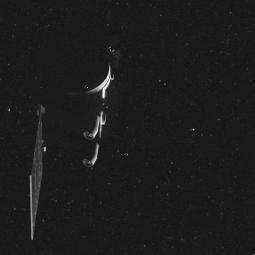proba_3_csc: (0, 34, 130, 255)
